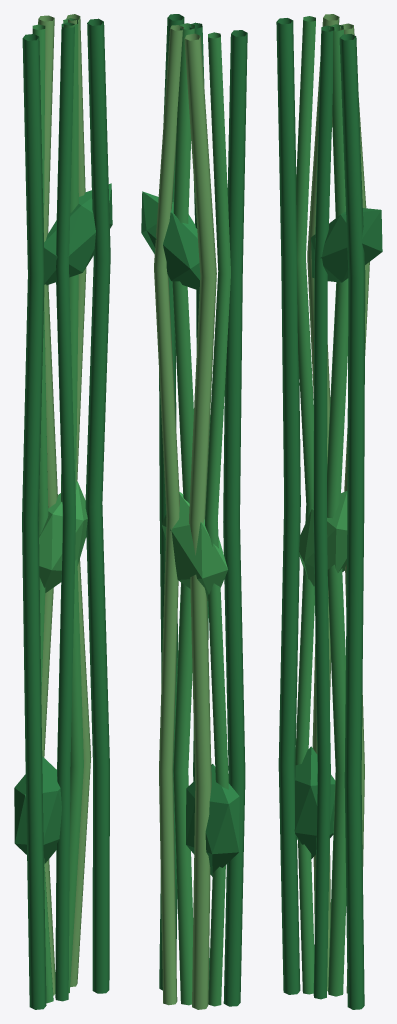
The model's file is spinach.glb.
The picture shows the model from 3 angles, left to right: view 1: azimuth 30°, elevation 25°; view 2: azimuth 150°, elevation 25°; view 3: azimuth 330°, elevation 25°; orthographic projection.
Parts seen in each view (by area): view 1: spinach_strand_0, spinach_strand_6, spinach_strand_3, spinach_strand_4, spinach_strand_2, spinach_strand_5, spinach_strand_1, wilted_leaf_2, wilted_leaf_1, wilted_leaf_0; view 2: spinach_strand_2, spinach_strand_0, spinach_strand_5, spinach_strand_1, spinach_strand_4, wilted_leaf_0, wilted_leaf_2, wilted_leaf_1, spinach_strand_6, spinach_strand_3; view 3: spinach_strand_6, spinach_strand_0, spinach_strand_3, spinach_strand_4, spinach_strand_1, spinach_strand_2, wilted_leaf_2, wilted_leaf_0, wilted_leaf_1, spinach_strand_5.
Part boxes in pixels (left/top/right/bottom): spinach_strand_0: left=22, top=34, right=46, bottom=1009; spinach_strand_6: left=85, top=18, right=110, bottom=993; spinach_strand_3: left=55, top=22, right=75, bottom=1001; spinach_strand_4: left=61, top=18, right=83, bottom=992; spinach_strand_2: left=38, top=15, right=57, bottom=995; spinach_strand_5: left=66, top=14, right=91, bottom=986; spinach_strand_1: left=32, top=24, right=53, bottom=1003; wilted_leaf_2: left=44, top=183, right=112, bottom=285; wilted_leaf_1: left=39, top=481, right=87, bottom=592; wilted_leaf_0: left=14, top=756, right=61, bottom=863; spinach_strand_2: left=184, top=33, right=216, bottom=1009; spinach_strand_0: left=223, top=30, right=247, bottom=1006; spinach_strand_5: left=154, top=25, right=183, bottom=1005; spinach_strand_1: left=205, top=32, right=230, bottom=1006; spinach_strand_4: left=172, top=23, right=194, bottom=1005; wilted_leaf_0: left=186, top=764, right=239, bottom=876; wilted_leaf_2: left=141, top=191, right=200, bottom=290; wilted_leaf_1: left=162, top=492, right=227, bottom=600; spinach_strand_6: left=159, top=14, right=184, bottom=990; spinach_strand_3: left=189, top=22, right=210, bottom=986; spinach_strand_6: left=339, top=34, right=365, bottom=1009; spinach_strand_0: left=276, top=18, right=300, bottom=994; spinach_strand_3: left=313, top=25, right=334, bottom=999; spinach_strand_4: left=327, top=24, right=348, bottom=996; spinach_strand_1: left=295, top=16, right=315, bottom=994; spinach_strand_2: left=307, top=14, right=339, bottom=991; wilted_leaf_2: left=311, top=208, right=382, bottom=282; wilted_leaf_0: left=294, top=746, right=335, bottom=858; wilted_leaf_1: left=299, top=491, right=347, bottom=586; spinach_strand_5: left=340, top=23, right=369, bottom=993.
Size of the model in its own units: 0.0992 by 0.9408 by 0.0438.
